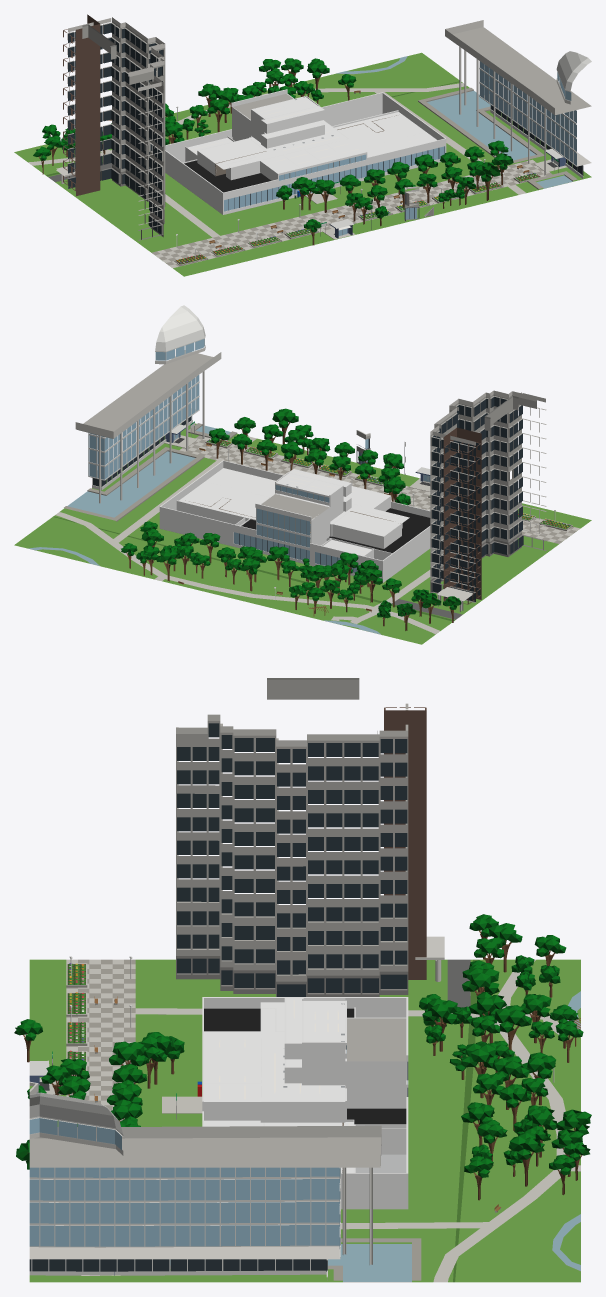
The model's file is kyoso.fbx.
The picture shows the model from 3 angles, top to bottom: view 1: azimuth 30°, elevation 25°; view 2: azimuth 150°, elevation 25°; view 3: azimuth 270°, elevation 25°; orthographic projection. The views are drawn at different scales.
Visible parts, largest first — view 1: ext_kyoso, wall_kyoso, ext_kyoso_trees, wall_kyoso_4f_corr, wall_kyoso_3f_corr, wall_kyoso_2f_c201, wall_kyoso_2f_c204, wall_kyoso_2f_c203, wall_kyoso_2f_c202, furn_kyoso_09_core, wall_kyoso_4f_east, wall_kyoso_4f_west; view 2: ext_kyoso, wall_kyoso, ext_kyoso_trees, wall_kyoso_4f_corr, furn_kyoso_09_core, wall_kyoso_4f_east, wall_kyoso_4f_west, wall_kyoso_2f_c201; view 3: ext_kyoso, ext_kyoso_trees, wall_kyoso, wall_kyoso_4f_corr, wall_kyoso_2f_c204, wall_kyoso_4f_west, wall_kyoso_2f_c201, wall_kyoso_3f_west, wall_kyoso_2f_c202, wall_kyoso_2f_c203, wall_kyoso_4f_east.
Boxes of the visible parts, x1=… form: ext_kyoso: x1=14, y1=14, x2=591, y2=276; wall_kyoso: x1=165, y1=89, x2=446, y2=214; ext_kyoso_trees: x1=33, y1=58, x2=513, y2=245; wall_kyoso_4f_corr: x1=232, y1=93, x2=324, y2=133; wall_kyoso_3f_corr: x1=261, y1=121, x2=324, y2=148; wall_kyoso_2f_c201: x1=260, y1=155, x2=300, y2=185; wall_kyoso_2f_c204: x1=327, y1=139, x2=367, y2=168; wall_kyoso_2f_c203: x1=305, y1=144, x2=344, y2=174; wall_kyoso_2f_c202: x1=283, y1=149, x2=322, y2=177; furn_kyoso_09_core: x1=197, y1=115, x2=425, y2=176; wall_kyoso_4f_east: x1=251, y1=103, x2=291, y2=127; wall_kyoso_4f_west: x1=278, y1=95, x2=319, y2=112; ext_kyoso: x1=14, y1=305, x2=591, y2=644; wall_kyoso: x1=159, y1=460, x2=430, y2=582; ext_kyoso_trees: x1=121, y1=408, x2=461, y2=630; wall_kyoso_4f_corr: x1=261, y1=469, x2=351, y2=519; furn_kyoso_09_core: x1=185, y1=481, x2=401, y2=548; wall_kyoso_4f_east: x1=302, y1=479, x2=343, y2=506; wall_kyoso_4f_west: x1=275, y1=472, x2=315, y2=498; wall_kyoso_2f_c201: x1=351, y1=490, x2=391, y2=511; ext_kyoso: x1=29, y1=678, x2=580, y2=1282; ext_kyoso_trees: x1=14, y1=914, x2=591, y2=1200; wall_kyoso: x1=202, y1=997, x2=408, y2=1209; wall_kyoso_4f_corr: x1=284, y1=997, x2=406, y2=1061; wall_kyoso_2f_c204: x1=202, y1=1084, x2=262, y2=1120; wall_kyoso_4f_west: x1=302, y1=1021, x2=346, y2=1061; wall_kyoso_2f_c201: x1=202, y1=1031, x2=261, y2=1049; wall_kyoso_3f_west: x1=302, y1=1061, x2=345, y2=1085; wall_kyoso_2f_c202: x1=202, y1=1049, x2=261, y2=1066; wall_kyoso_2f_c203: x1=202, y1=1066, x2=261, y2=1083; wall_kyoso_4f_east: x1=302, y1=998, x2=346, y2=1021.
Size of the model in its own units: 135 by 55.12 by 100.
